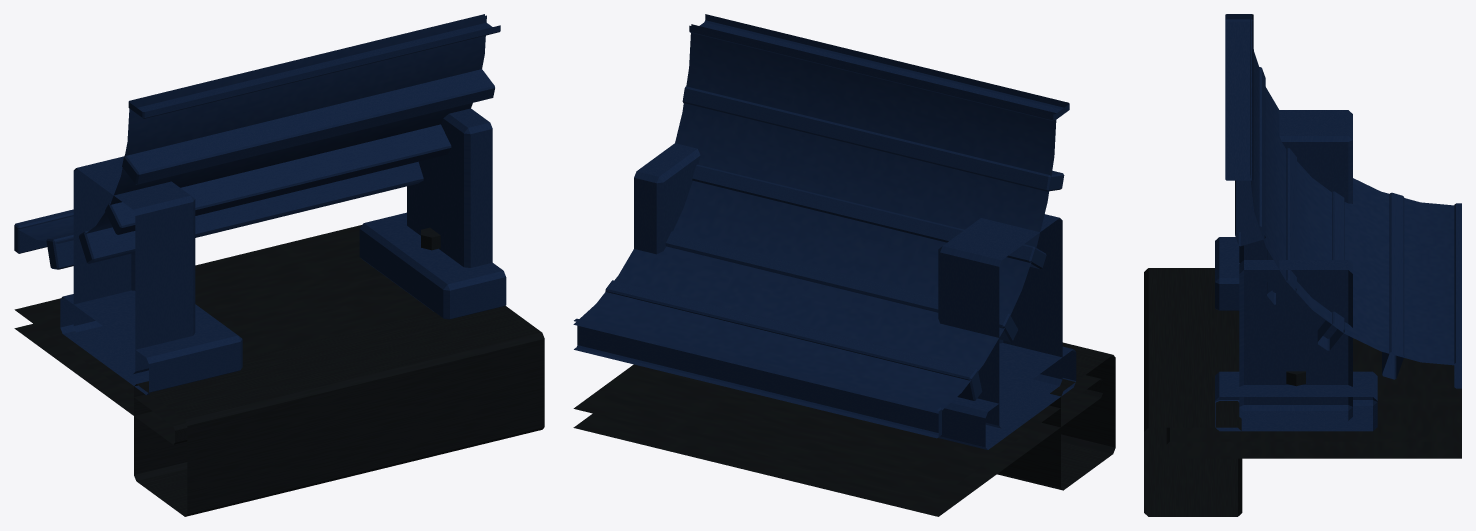
Rendered from cell_10.obj.
The picture shows the model from 3 angles, left to right: view 1: azimuth 30°, elevation 25°; view 2: azimuth 150°, elevation 25°; view 3: azimuth 270°, elevation 25°; orthographic projection. The views are drawn at different scales.
Visible parts, largest first — view 1: cell_10; view 2: cell_10; view 3: cell_10.
Boxes of the visible parts, left/top/right/bottom form: cell_10: left=14, top=14, right=544, bottom=516; cell_10: left=573, top=14, right=1115, bottom=516; cell_10: left=1144, top=14, right=1461, bottom=516.
Bounding box in the file's own units: 1 × 1 × 0.84.
